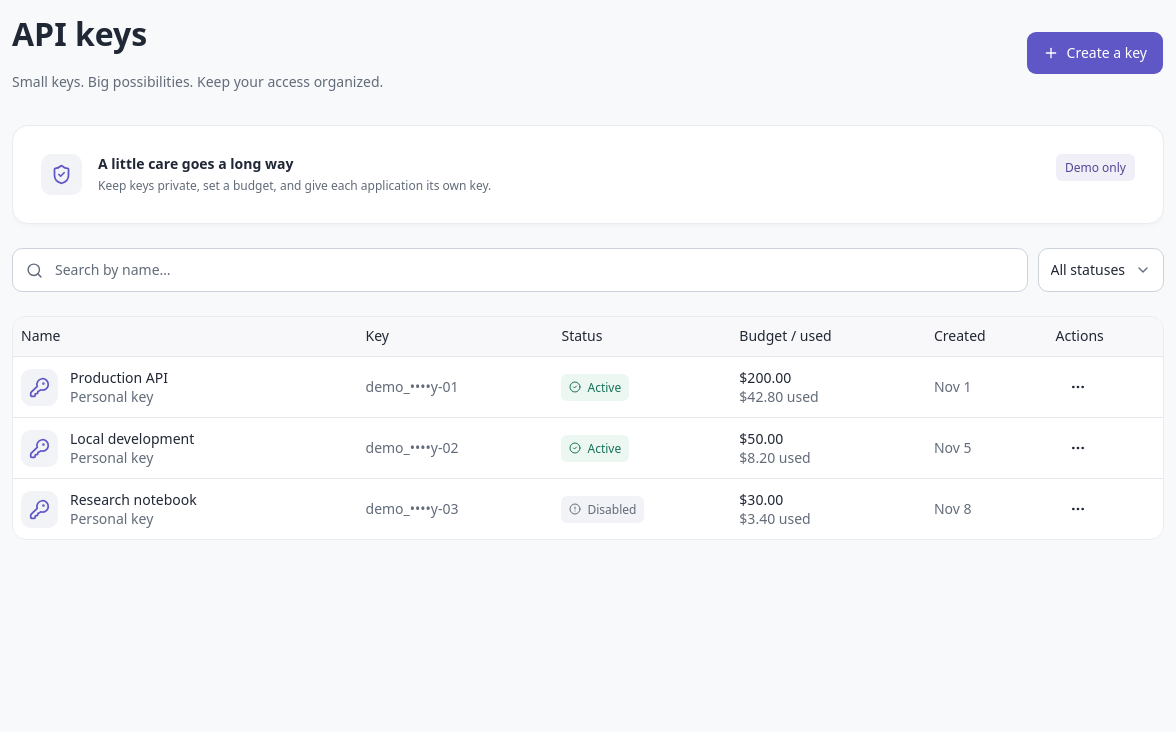
Client key management preview › search returns an actionable empty state when no key matches
This screenshot has width=1176, height=732.
Type "nonexistent-project" into the field named "Search API keys" at [520, 270], box x1=12 y1=248 x2=1028 y2=292
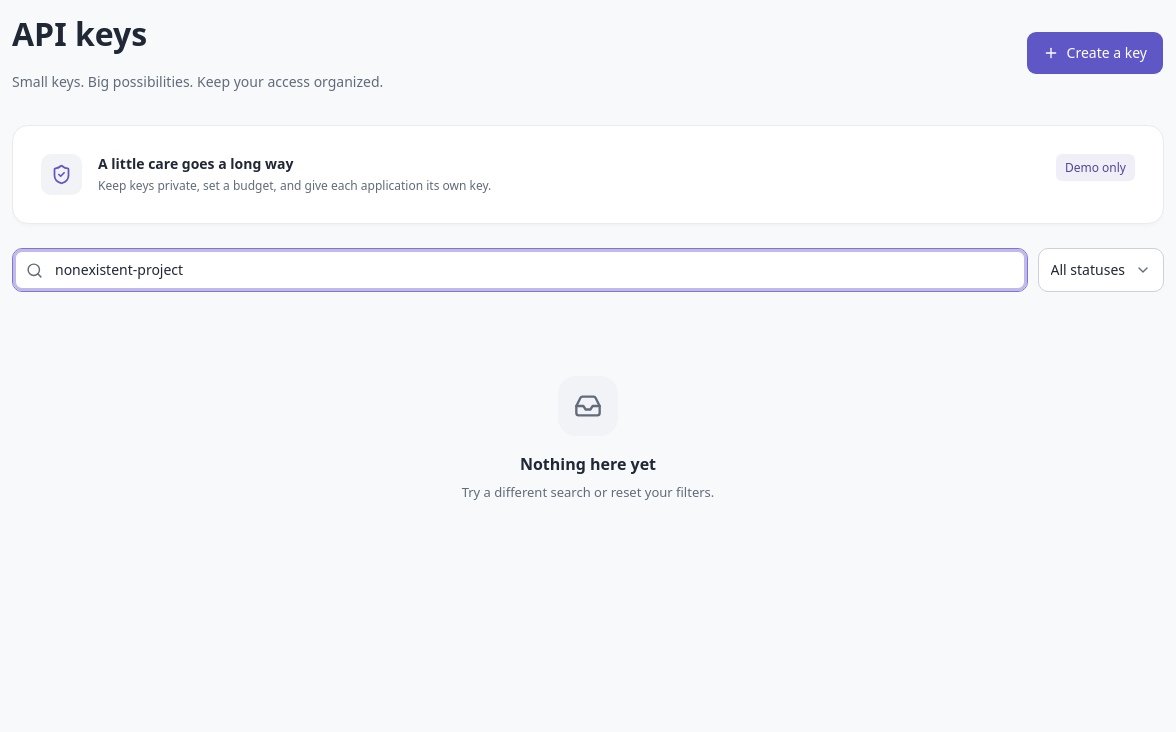
Now the message shows "Nothing here yet", box x1=520 y1=453 x2=656 y2=475
Now the text "Production API" is gone
